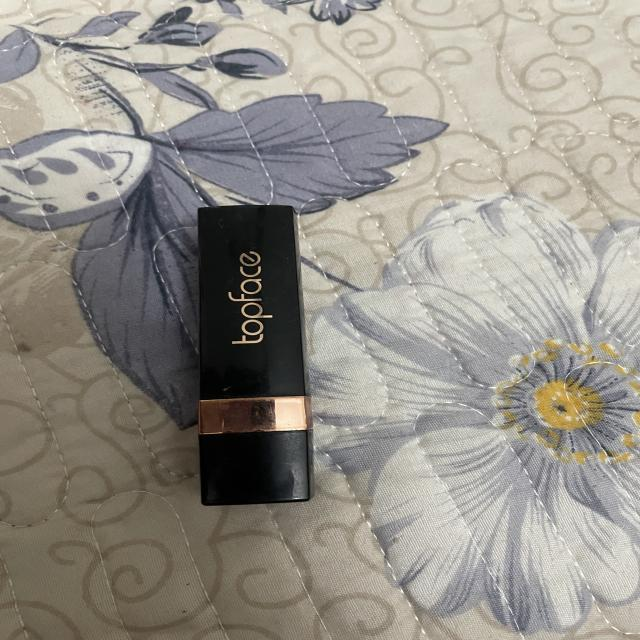lip stick: (182, 188, 332, 538)
